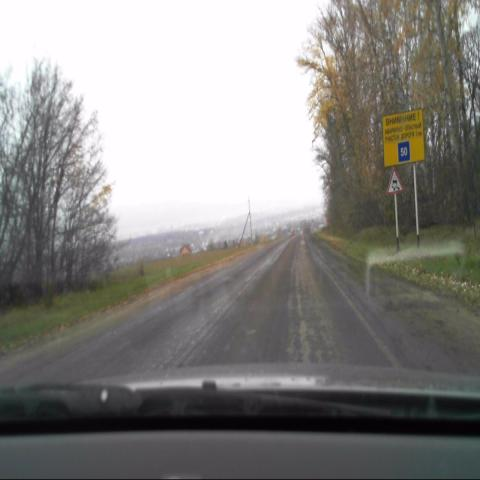1_15: (387, 168, 402, 192)
6_2: (398, 143, 410, 162)
